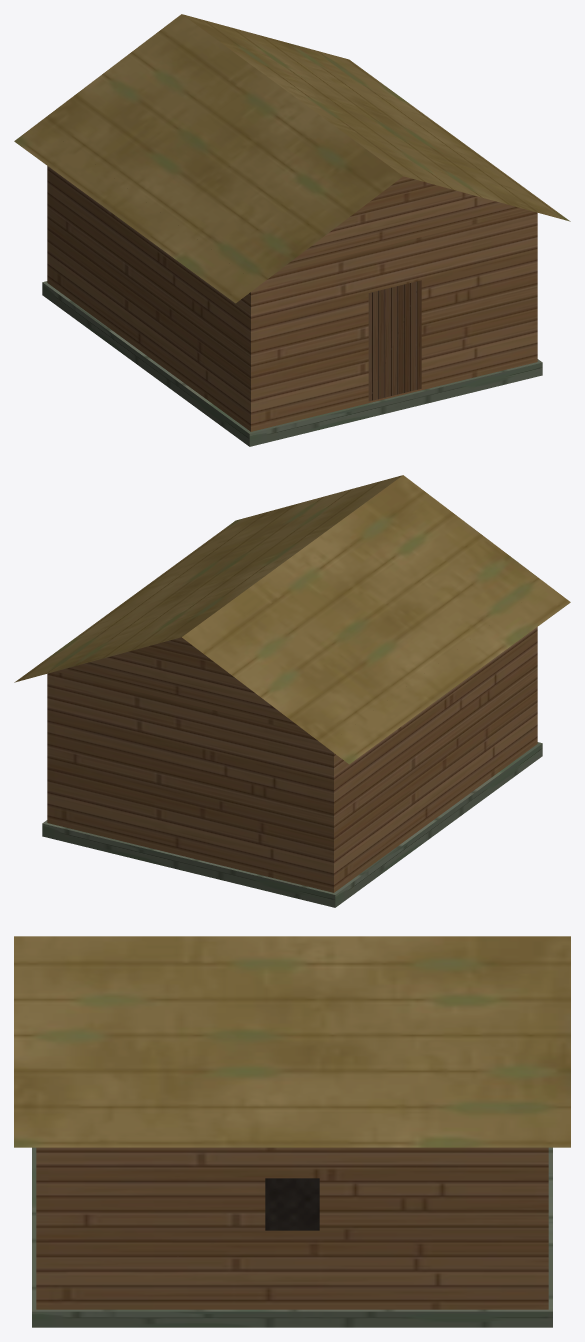
File: ae_jungle_wood_large_barn_lod2.glb
3 views of the same model, one above another, from view 1: azimuth 30°, elevation 25°; view 2: azimuth 150°, elevation 25°; view 3: azimuth 270°, elevation 25° (orthographic). The views are drawn at different scales.
Visible parts, largest first — view 1: ae_jungle_wood_large_barn_lod2; view 2: ae_jungle_wood_large_barn_lod2; view 3: ae_jungle_wood_large_barn_lod2.
Part boxes in pixels (x1,y1,x2,y2): ae_jungle_wood_large_barn_lod2: (14, 14, 570, 446); ae_jungle_wood_large_barn_lod2: (14, 475, 570, 907); ae_jungle_wood_large_barn_lod2: (14, 936, 570, 1327).
Bounding box in the file's own units: 7.6 × 5.2 × 8.7.
Materials: 1 (1 with a texture image).
